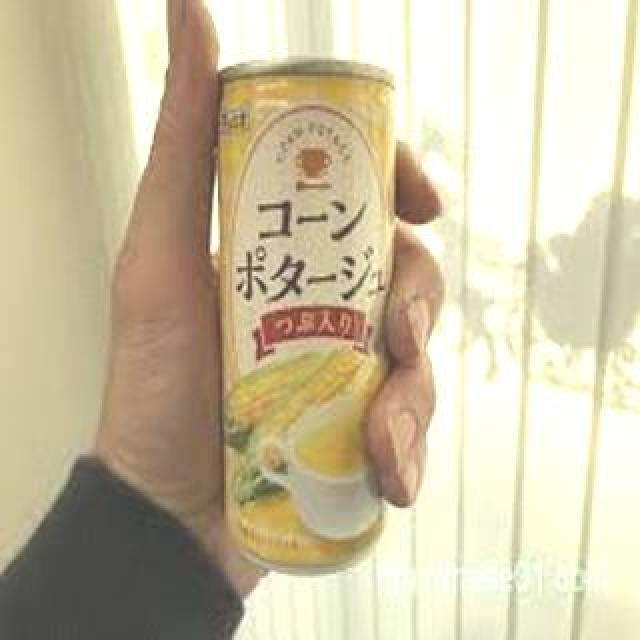Can: (214, 52, 396, 580)
